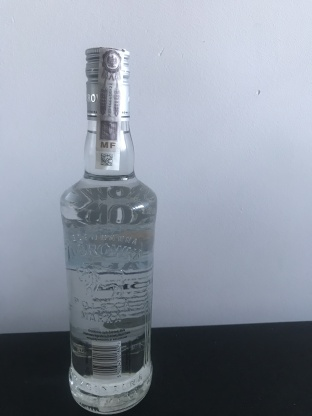nakretka: (82, 42, 133, 124)
